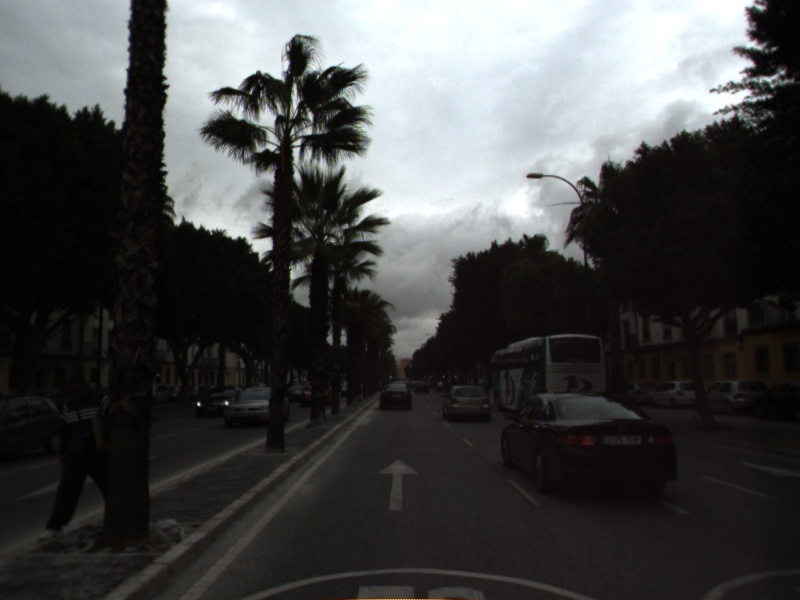STRAIGHT: (374, 457, 422, 513)
